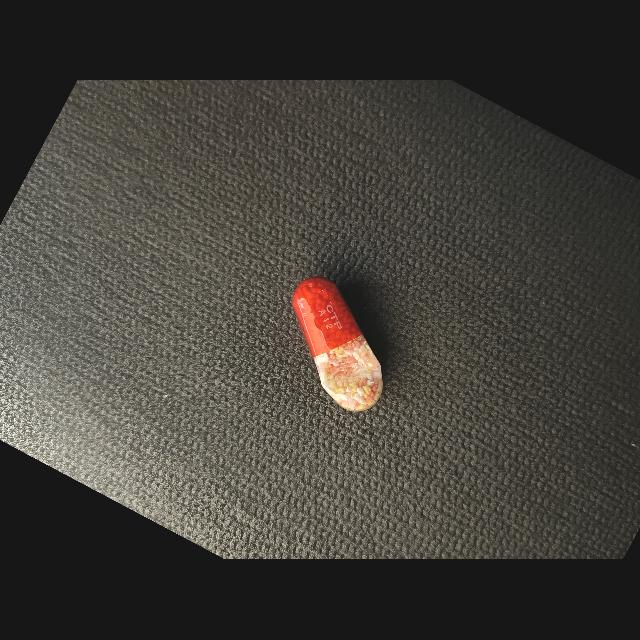Defective Capsule: (292, 278, 383, 412)
